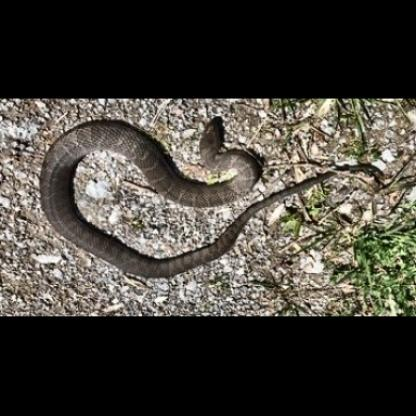Snake: (39, 102, 411, 281)
